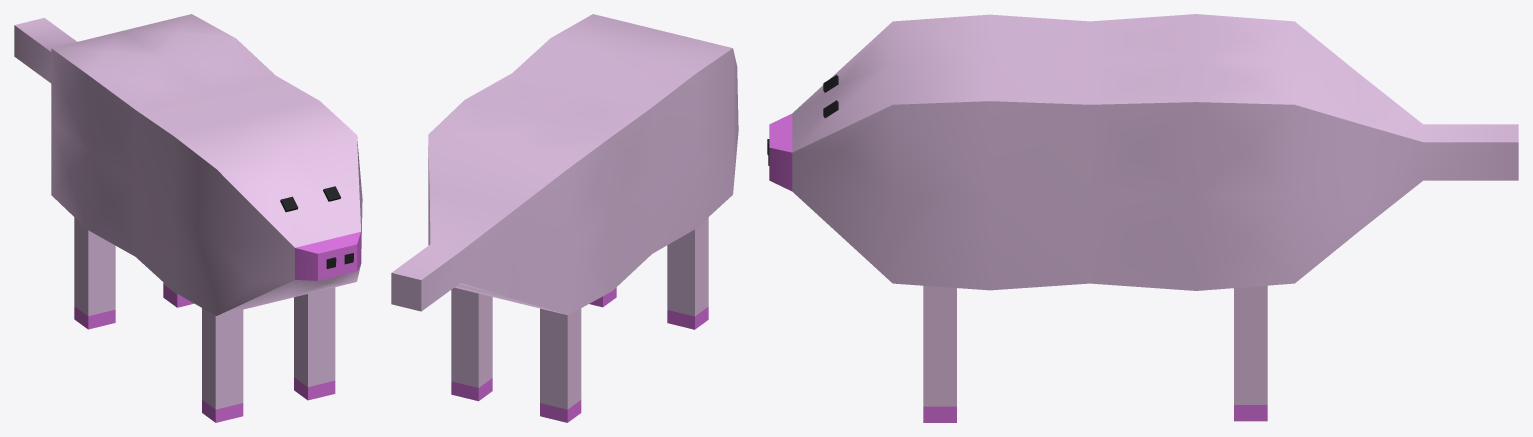
Rendered from pig.fbx.
3 views of the same model, side by side, from view 1: azimuth 30°, elevation 25°; view 2: azimuth 150°, elevation 25°; view 3: azimuth 270°, elevation 25° (orthographic). The views are drawn at different scales.
Parts seen in each view (by area): view 1: pCube11; view 2: pCube11; view 3: pCube11.
Part boxes in pixels (left/top/right/bottom): pCube11: left=14, top=14, right=362, bottom=422; pCube11: left=391, top=14, right=738, bottom=422; pCube11: left=767, top=14, right=1518, bottom=422.
Bounding box in the file's own units: 2.96 × 5.14 × 10.65.
